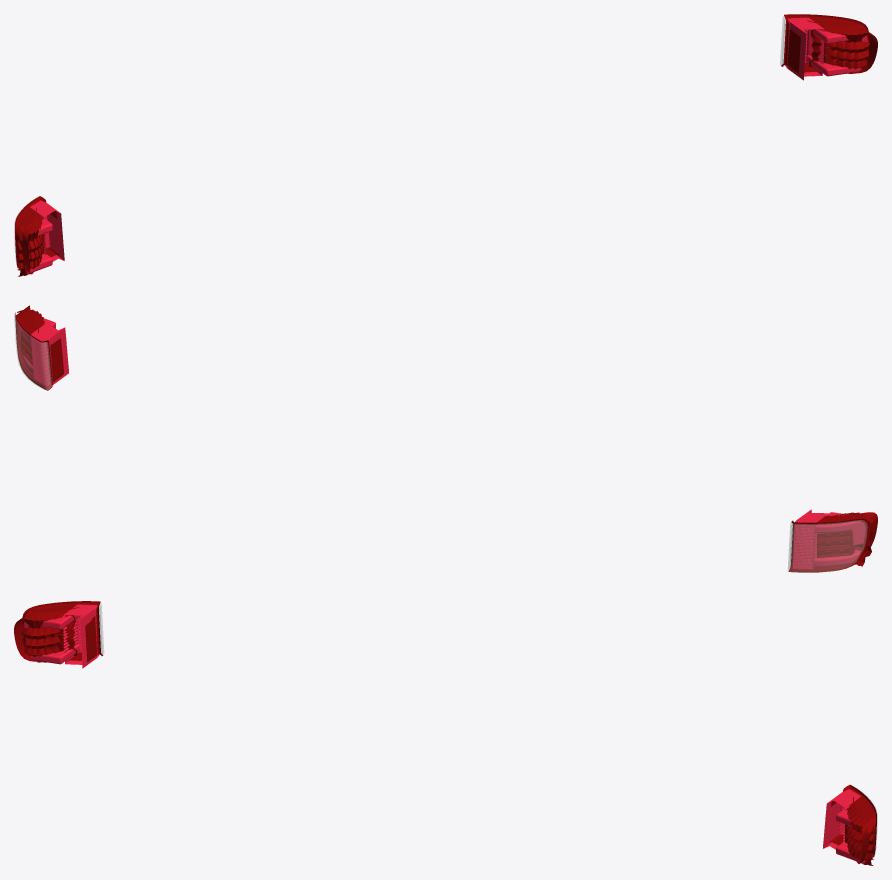
Rendered from катафотлед.glb.
3 views of the same model, one above another, from view 1: azimuth 30°, elevation 25°; view 2: azimuth 150°, elevation 25°; view 3: azimuth 330°, elevation 25° (orthographic).
Visible parts, largest first — view 1: Cube.3, Cube.1; view 2: LC200_CarGlass_RedBrake_1, Cube.3, Cube.1; view 3: Cube.3, Cube.1.
Boxes of the visible parts, x1,y1,x2,y2 form: Cube.3: (15,14,877,276); Cube.1: (25,17,867,274); LC200_CarGlass_RedBrake_1: (14,313,867,572); Cube.3: (15,305,877,572); Cube.1: (19,318,865,569); Cube.3: (14,601,876,865); Cube.1: (23,604,865,863).
Size of the model in its own units: 2.17 by 0.1253 by 0.1843.
